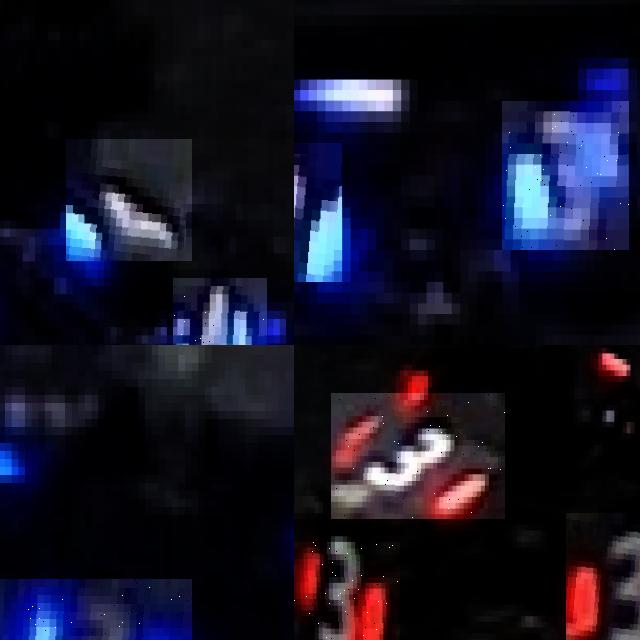B3: (502, 101, 629, 250), (0, 579, 191, 640), (294, 143, 342, 281)
B4: (66, 139, 192, 261), (173, 277, 267, 345)
R3: (331, 393, 505, 519), (294, 542, 399, 640), (565, 513, 640, 640)
